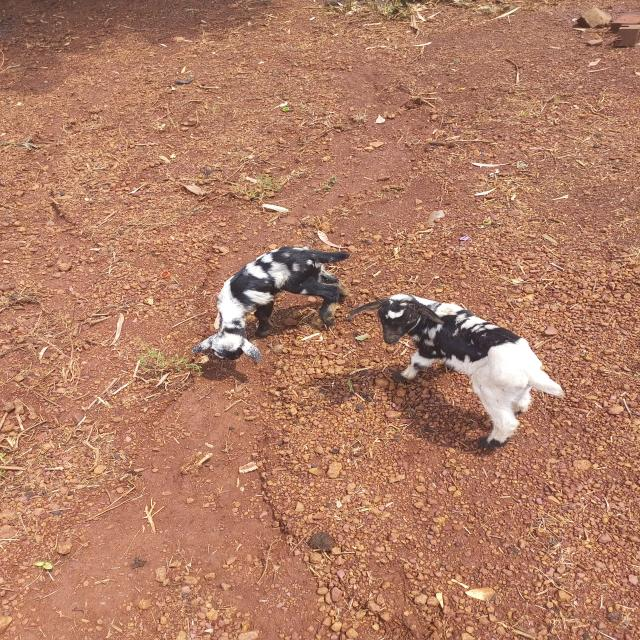goat: (334, 268, 595, 491)
